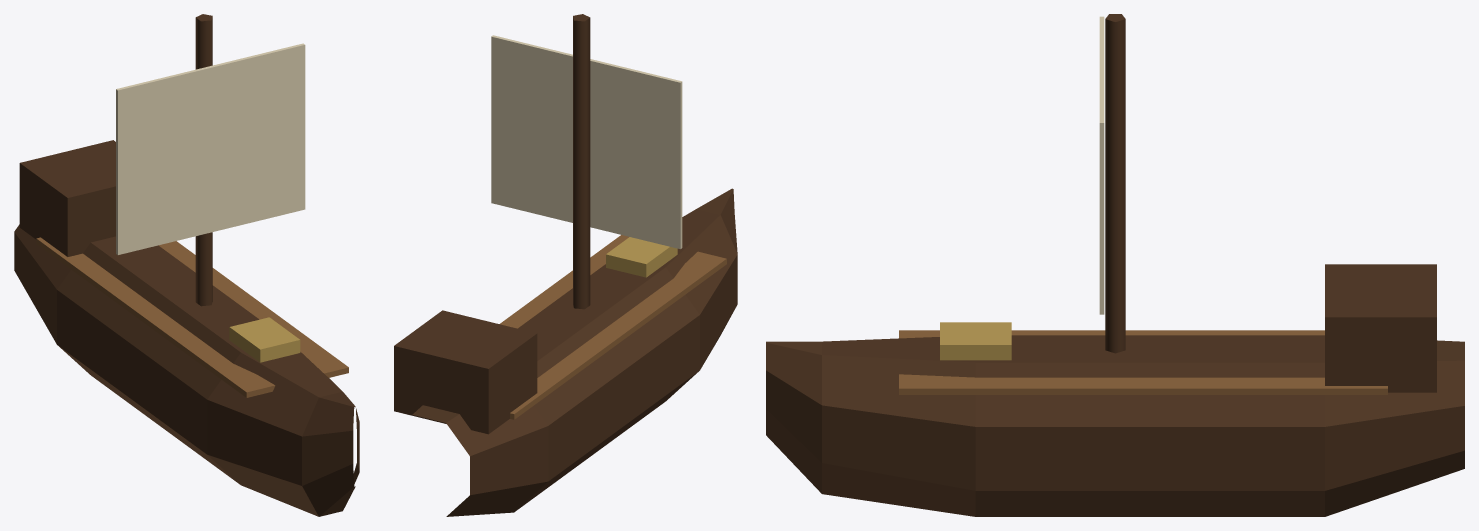
The model's file is veh_naval_fishing_a03.glb.
3 renders of one model, left to right at view 1: azimuth 30°, elevation 25°; view 2: azimuth 150°, elevation 25°; view 3: azimuth 270°, elevation 25°, orthographic. The views are drawn at different scales.
Parts seen in each view (by area): view 1: body, sail_0; view 2: body, sail_0; view 3: body, sail_0.
Part boxes in pixels (left/top/right/bottom): body: left=14, top=14, right=359, bottom=516; sail_0: left=116, top=43, right=305, bottom=254; body: left=394, top=14, right=737, bottom=516; sail_0: left=491, top=35, right=682, bottom=249; body: left=766, top=14, right=1464, bottom=516; sail_0: left=1099, top=16, right=1104, bottom=314.
Size of what is drawn, in the model's own units: 2.81 by 5.98 by 7.8.
